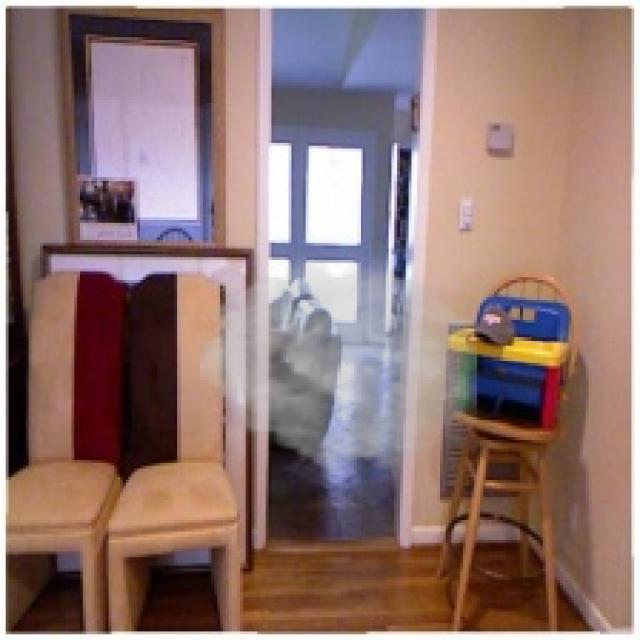smoke: (200, 251, 477, 480)
